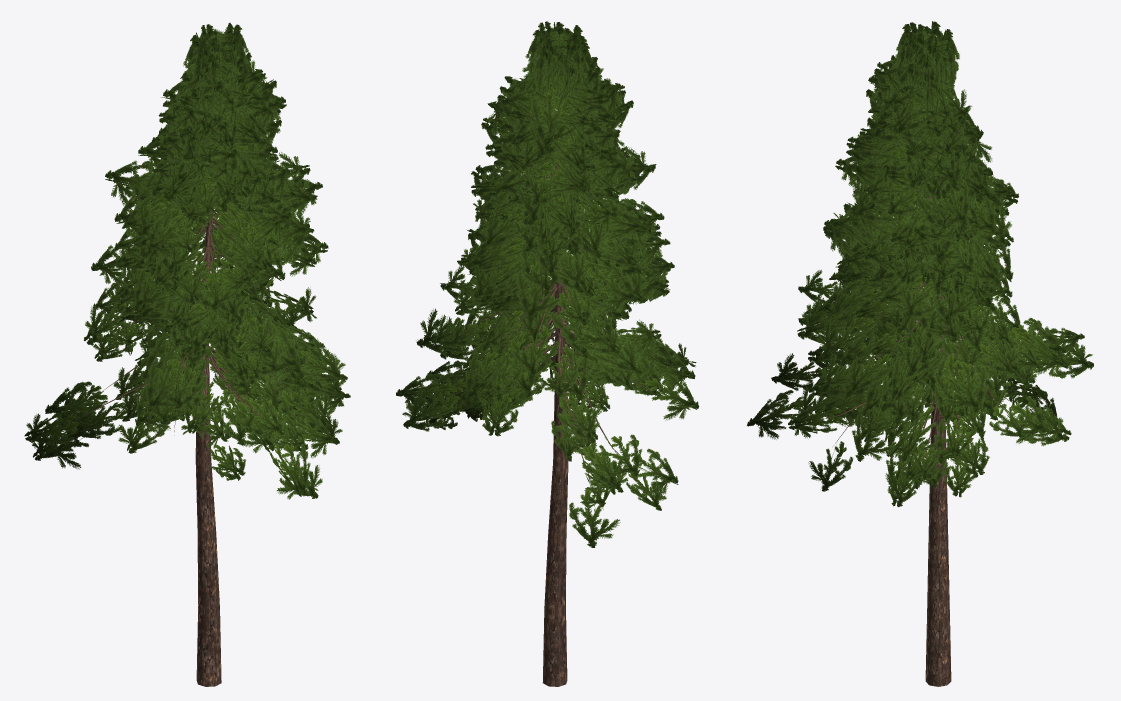
Rendered from pine_tree_tall-terraintale.glb.
3 views of the same model, side by side, from view 1: azimuth 30°, elevation 25°; view 2: azimuth 150°, elevation 25°; view 3: azimuth 270°, elevation 25° (orthographic).
Parts seen in each view (by area): view 1: pine_tree_tall; view 2: pine_tree_tall; view 3: pine_tree_tall.
Part boxes in pixels (box(x1,y1,x2,y2)): pine_tree_tall: box(24, 22, 350, 686); pine_tree_tall: box(396, 21, 699, 686); pine_tree_tall: box(747, 21, 1093, 686).
Size of the model in its own units: 3.54 by 7.73 by 3.9.
2 materials, 2 textured.
